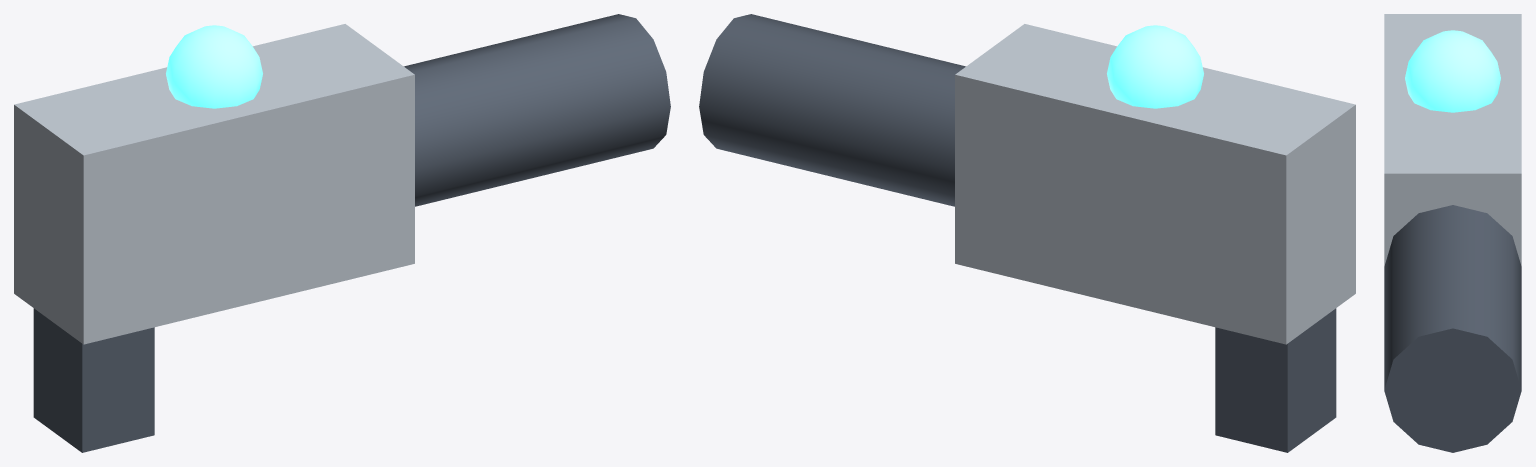
File: gun.glb
3 views of the same model, side by side, from view 1: azimuth 30°, elevation 25°; view 2: azimuth 150°, elevation 25°; view 3: azimuth 270°, elevation 25° (orthographic).
Parts seen in each view (by area): view 1: body, barrel, core; view 2: body, barrel, core; view 3: barrel, body, core.
Part boxes in pixels (x1,y1,x2,y2): body: [14, 24, 414, 452]; barrel: [404, 14, 670, 206]; core: [166, 25, 262, 108]; body: [955, 24, 1355, 452]; barrel: [699, 14, 965, 206]; core: [1107, 25, 1203, 108]; barrel: [1384, 205, 1521, 452]; body: [1384, 14, 1521, 265]; core: [1405, 30, 1500, 112].
Bounding box in the file's own units: 0.4875 × 0.2912 × 0.1.
